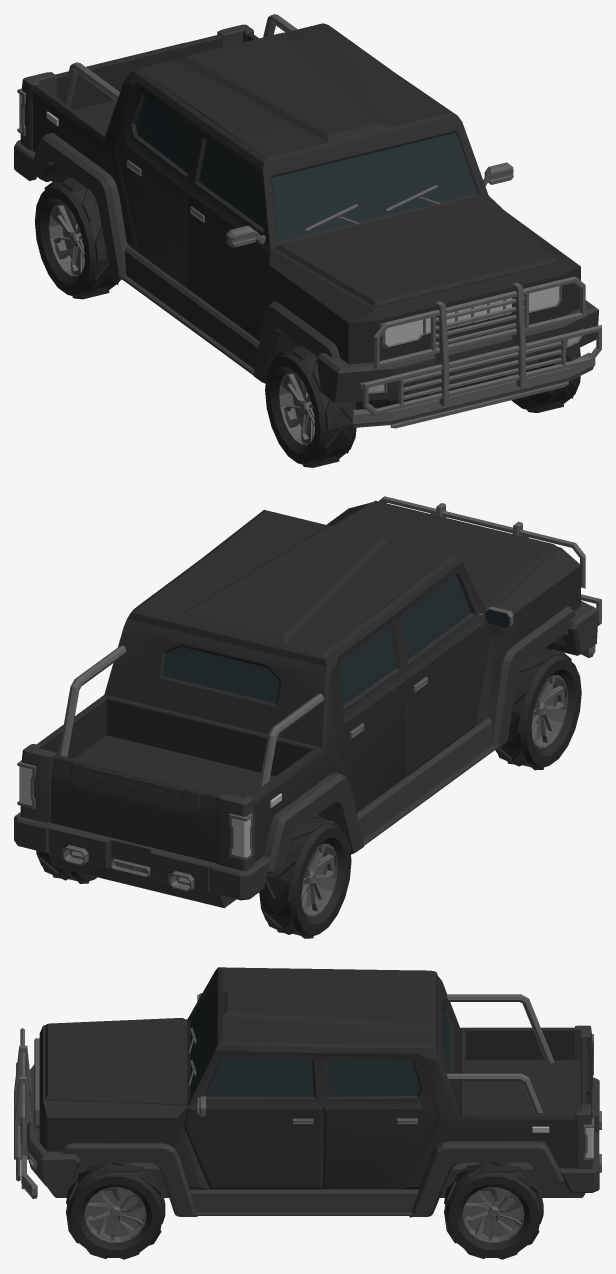
File: car_03.glb
3 views of the same model, one above another, from view 1: azimuth 30°, elevation 25°; view 2: azimuth 150°, elevation 25°; view 3: azimuth 270°, elevation 25° (orthographic). The views are drawn at different scales.
Visible parts, largest first — view 1: car_03; view 2: car_03; view 3: car_03.
Boxes of the visible parts, bbox=[...] form: car_03: bbox=[14, 14, 601, 467]; car_03: bbox=[14, 496, 601, 938]; car_03: bbox=[14, 967, 601, 1259].
Size of the model in its own units: 2.38 by 2.03 by 5.21.
Materials: 1 (1 with a texture image).
